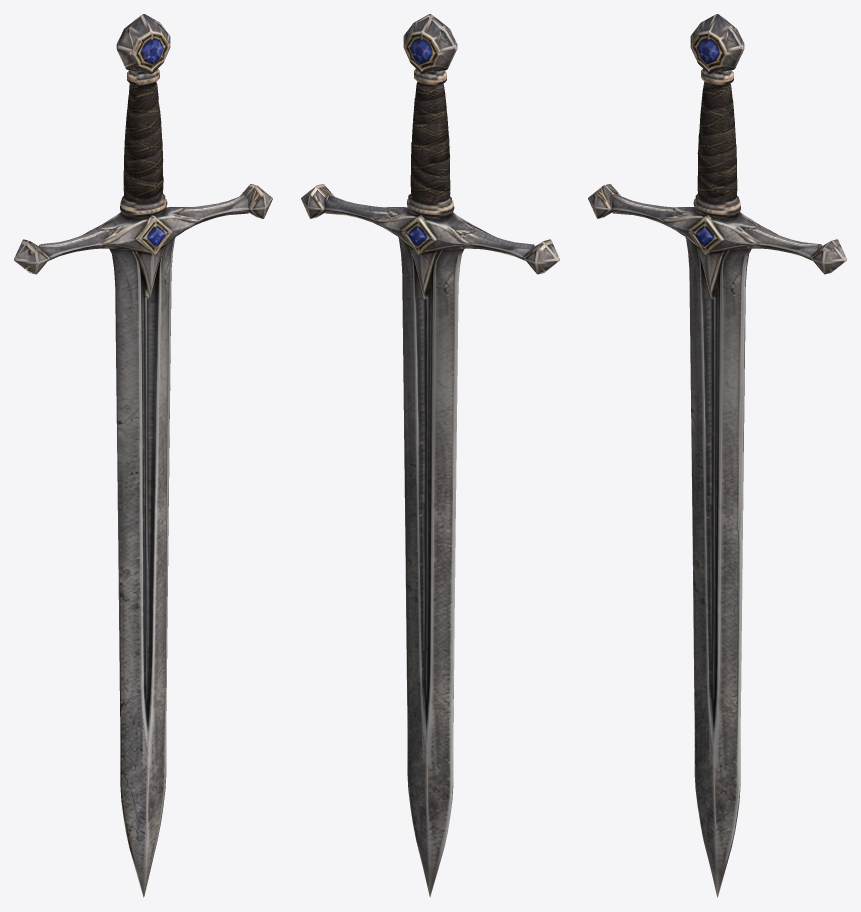
File: l1-nobel+knight+sword+3d+model.glb
3 renders of one model, left to right at view 1: azimuth 30°, elevation 25°; view 2: azimuth 150°, elevation 25°; view 3: azimuth 330°, elevation 25°, orthographic.
Parts seen in each view (by area): view 1: tripo_node_df66acbb-5afc-4ea6-92bc-691f90b5b7f2; view 2: tripo_node_df66acbb-5afc-4ea6-92bc-691f90b5b7f2; view 3: tripo_node_df66acbb-5afc-4ea6-92bc-691f90b5b7f2.
Boxes of the visible parts, x1=… form: tripo_node_df66acbb-5afc-4ea6-92bc-691f90b5b7f2: x1=14, y1=14, x2=272, y2=897; tripo_node_df66acbb-5afc-4ea6-92bc-691f90b5b7f2: x1=301, y1=14, x2=559, y2=897; tripo_node_df66acbb-5afc-4ea6-92bc-691f90b5b7f2: x1=588, y1=14, x2=846, y2=897.
Size of the model in its own units: 0.3052 by 0.9995 by 0.0562.
1 material, 1 textured.
